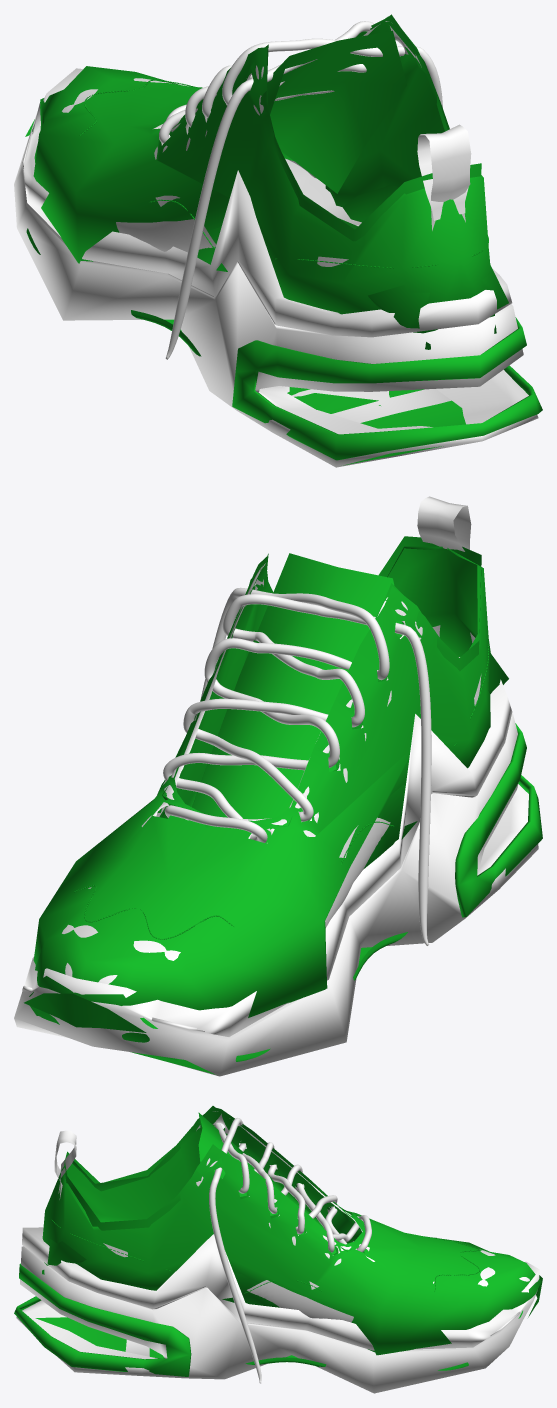
3 views of the same model, one above another, from view 1: azimuth 30°, elevation 25°; view 2: azimuth 150°, elevation 25°; view 3: azimuth 270°, elevation 25° (orthographic). The views are drawn at different scales.
Parts seen in each view (by area): view 1: sock outer.007, sole 2 main.028, sole back lining.007, shoelace support.007, sock inner.007, SHOELACE.007, brand tag.007, sole 2 main.029, outer design.007, sole 2 pattern.007, shoelace area design.007, outer dsign thread.007; view 2: sock outer.007, sole 2 main.028, shoelace support.007, SHOELACE.007, sock inner.007, sole back lining.007, outer design.007, sole 2 main.030, brand tag.007, shoelace area design.007, sole 2 main.029; view 3: sock outer.007, sole 2 main.028, sock inner.007, sole back lining.007, SHOELACE.007, outer design.007, sole 2 main.029, shoelace support.007, shoelace area design.007, brand tag.007, outer dsign thread.007.
Boxes of the visible parts, <box> form: sock outer.007: <box>33,16,496,349</box>; sole 2 main.028: <box>14,68,538,467</box>; sole back lining.007: <box>232,317,542,460</box>; shoelace support.007: <box>267,30,406,193</box>; sock inner.007: <box>163,14,508,328</box>; SHOELACE.007: <box>159,21,442,359</box>; brand tag.007: <box>417,124,471,230</box>; sole 2 main.029: <box>26,125,465,428</box>; outer design.007: <box>62,78,348,266</box>; sole 2 pattern.007: <box>289,388,443,465</box>; shoelace area design.007: <box>153,21,421,159</box>; outer dsign thread.007: <box>79,79,488,268</box>; sock outer.007: <box>33,546,490,1017</box>; sole 2 main.028: <box>14,657,538,1076</box>; shoelace support.007: <box>192,553,402,843</box>; SHOELACE.007: <box>163,587,431,945</box>; sock inner.007: <box>159,536,508,869</box>; sole back lining.007: <box>455,723,542,917</box>; outer design.007: <box>62,624,481,984</box>; sole 2 main.030: <box>24,993,146,1032</box>; brand tag.007: <box>417,496,471,551</box>; shoelace area design.007: <box>141,563,422,843</box>; sole 2 main.029: <box>29,932,407,1061</box>; sock outer.007: <box>42,1108,541,1355</box>; sole 2 main.028: <box>16,1227,539,1393</box>; sock inner.007: <box>47,1106,368,1307</box>; sole back lining.007: <box>14,1263,191,1376</box>; SHOELACE.007: <box>209,1118,371,1383</box>; outer design.007: <box>103,1241,529,1322</box>; sole 2 main.029: <box>35,1310,522,1370</box>; shoelace support.007: <box>198,1112,364,1254</box>; shoelace area design.007: <box>196,1111,374,1265</box>; brand tag.007: <box>54,1130,76,1199</box>; outer dsign thread.007: <box>52,1220,479,1293</box>.
Size of what is drawn, in the model's own units: 1.73 by 2.03 by 4.35.
